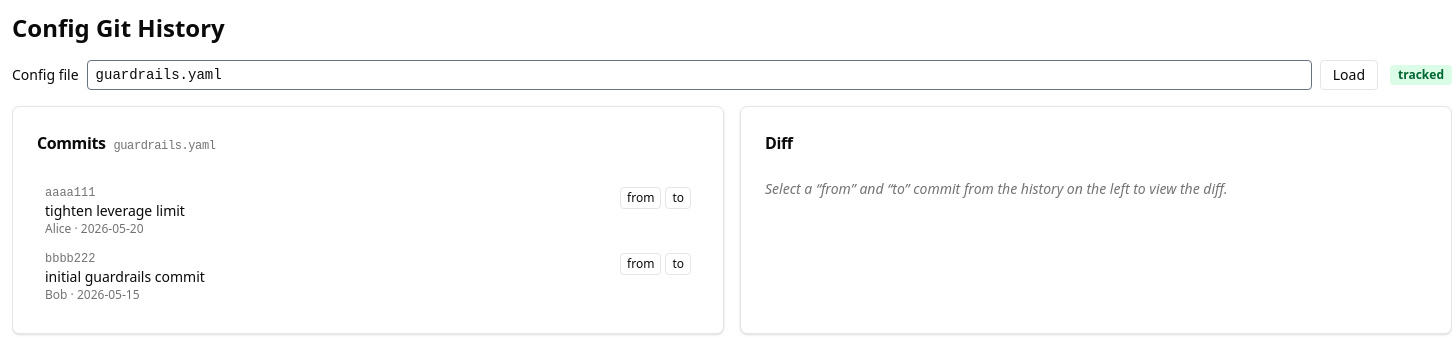
ConfigHistoryPage diff pane › shows diff after selecting from and to commits
This screenshot has width=1452, height=352.
What coordinates should you click on to do the following:
click the button "from" in the row of "initial guardrails commit"
I would click on:
 (641, 264)
Its box is x1=620 y1=253 x2=661 y2=275.
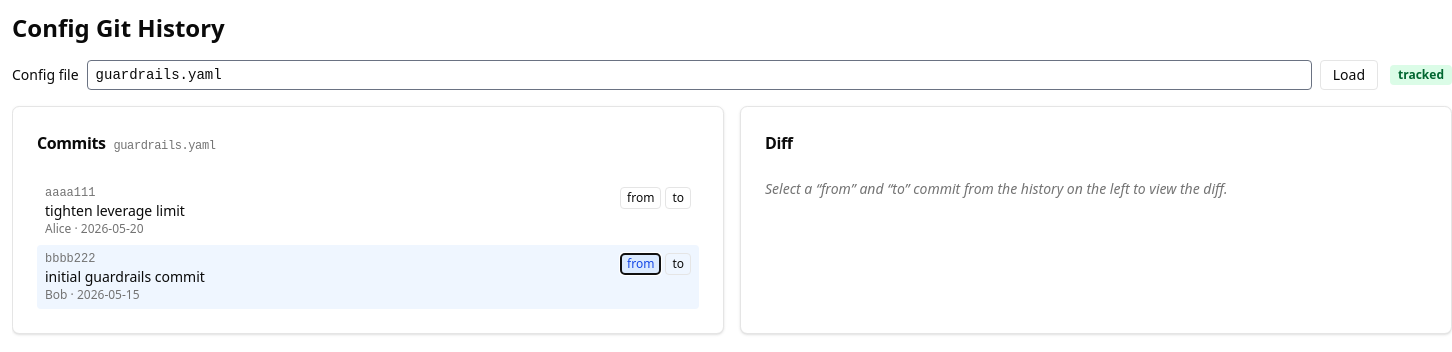
What coordinates should you click on to do the following:
click the button "to" in the row of "tighten leverage limit"
I would click on:
 (678, 198)
Its box is x1=665 y1=187 x2=691 y2=209.
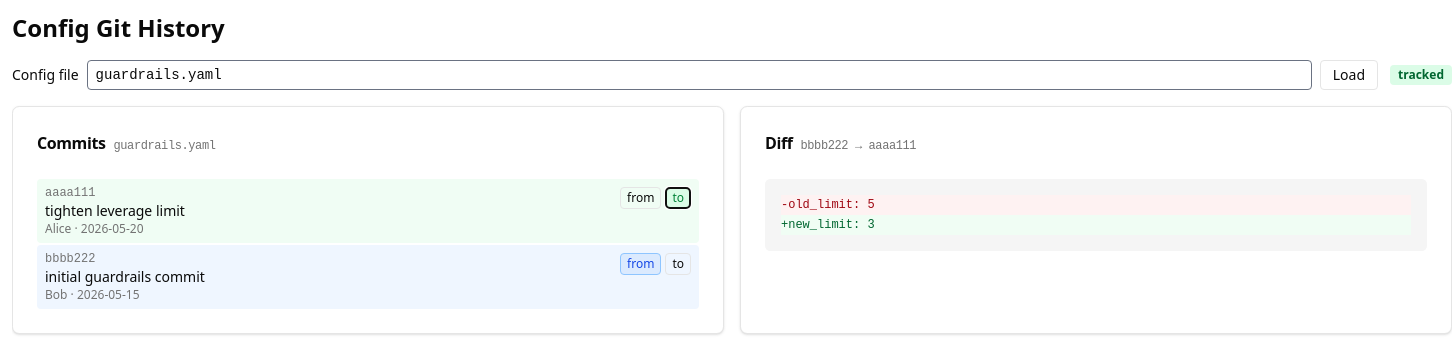
Expected: the text "-old_limit: 5" is shown, x1=781 y1=195 x2=1411 y2=215
